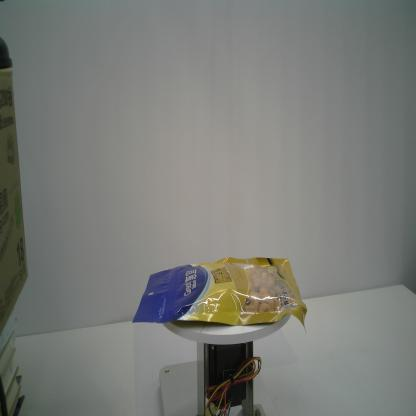Dried Fruit: (132, 256, 308, 334)
